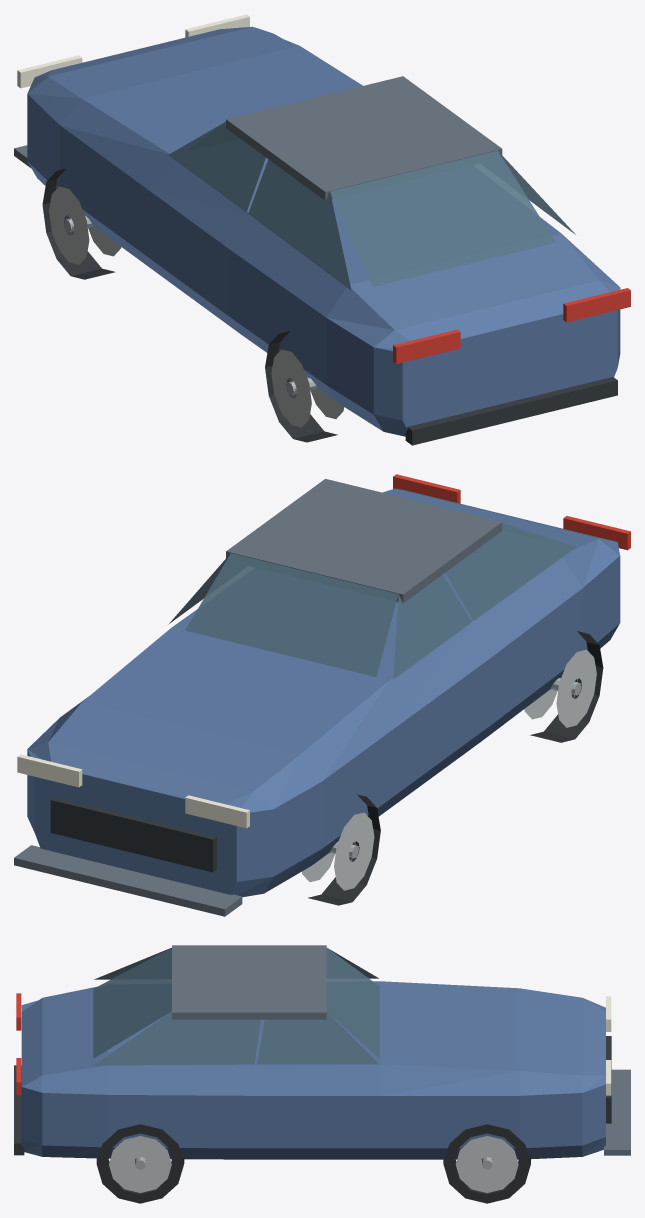
Rendered from cedar_sedan_lod1.glb.
The picture shows the model from 3 angles, top to bottom: view 1: azimuth 30°, elevation 25°; view 2: azimuth 150°, elevation 25°; view 3: azimuth 270°, elevation 25°; orthographic projection. The views are drawn at different scales.
Visible parts, largest first — view 1: Body_Shell, Rear_Windshield, Roof, Rear_Quarter_Glass_-1, Door_Glass_-1, Diffuser, Rim_RL, Rim_FL, Tire_RL, Tire_FL, Taillight_1, Taillight_-1 (+3 smaller); view 2: Body_Shell, Roof, Windshield, Grille, Rear_Quarter_Glass_-1, Splitter, Door_Glass_-1, Rim_RL, Rim_FL, Tire_RL, Tire_FL, Headlight_1 (+3 smaller); view 3: Body_Shell, Roof, Rear_Quarter_Glass_1, Rear_Windshield, Door_Glass_1, Windshield, Rim_FR, Rim_RR, Tire_RR, Tire_FR, Splitter, Diffuser.
Part boxes in pixels (box(x1,y1,x2,y2)): Body_Shell: box(27, 26, 620, 436); Rear_Windshield: box(330, 150, 555, 286); Roof: box(226, 76, 502, 200); Rear_Quarter_Glass_-1: box(248, 159, 351, 290); Door_Glass_-1: box(168, 122, 265, 212); Diffuser: box(405, 377, 617, 445); Rim_RL: box(271, 349, 344, 427); Rim_FL: box(49, 186, 121, 264); Tire_RL: box(265, 331, 337, 442); Tire_FL: box(42, 168, 115, 279); Taillight_1: box(563, 288, 630, 322); Taillight_-1: box(393, 329, 460, 363); Body_Shell: box(27, 488, 620, 897); Roof: box(226, 479, 502, 603); Windshield: box(185, 553, 398, 676); Grille: box(50, 797, 216, 872); Rear_Quarter_Glass_-1: box(445, 523, 576, 620); Splitter: box(14, 845, 242, 916); Door_Glass_-1: box(393, 574, 471, 679); Rim_RL: box(524, 649, 596, 727); Rim_FL: box(302, 812, 374, 890); Tire_RL: box(530, 631, 603, 742); Tire_FL: box(308, 794, 380, 905); Headlight_1: box(17, 754, 82, 787); Body_Shell: box(21, 981, 605, 1159); Roof: box(172, 945, 326, 1019); Rear_Quarter_Glass_1: box(93, 1011, 260, 1065); Rear_Windshield: box(93, 947, 171, 1058); Door_Glass_1: box(257, 1011, 378, 1064); Windshield: box(326, 948, 379, 1058); Rim_FR: box(455, 1136, 518, 1192); Rim_RR: box(109, 1136, 171, 1192); Tire_RR: box(96, 1124, 184, 1203); Tire_FR: box(443, 1124, 530, 1203); Splitter: box(604, 1069, 630, 1155); Diffuser: box(14, 1065, 24, 1155).
Size of the model in its own units: 2.01 by 1.46 by 4.79.
